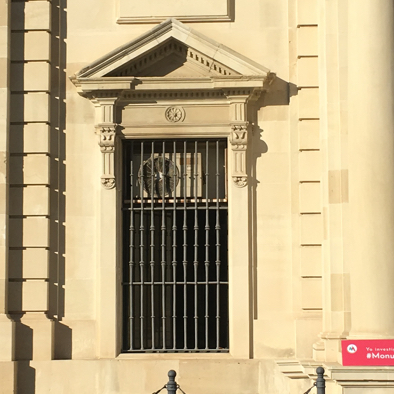fronton: (67, 18, 276, 91)
vano-adintelado: (91, 122, 259, 355)
